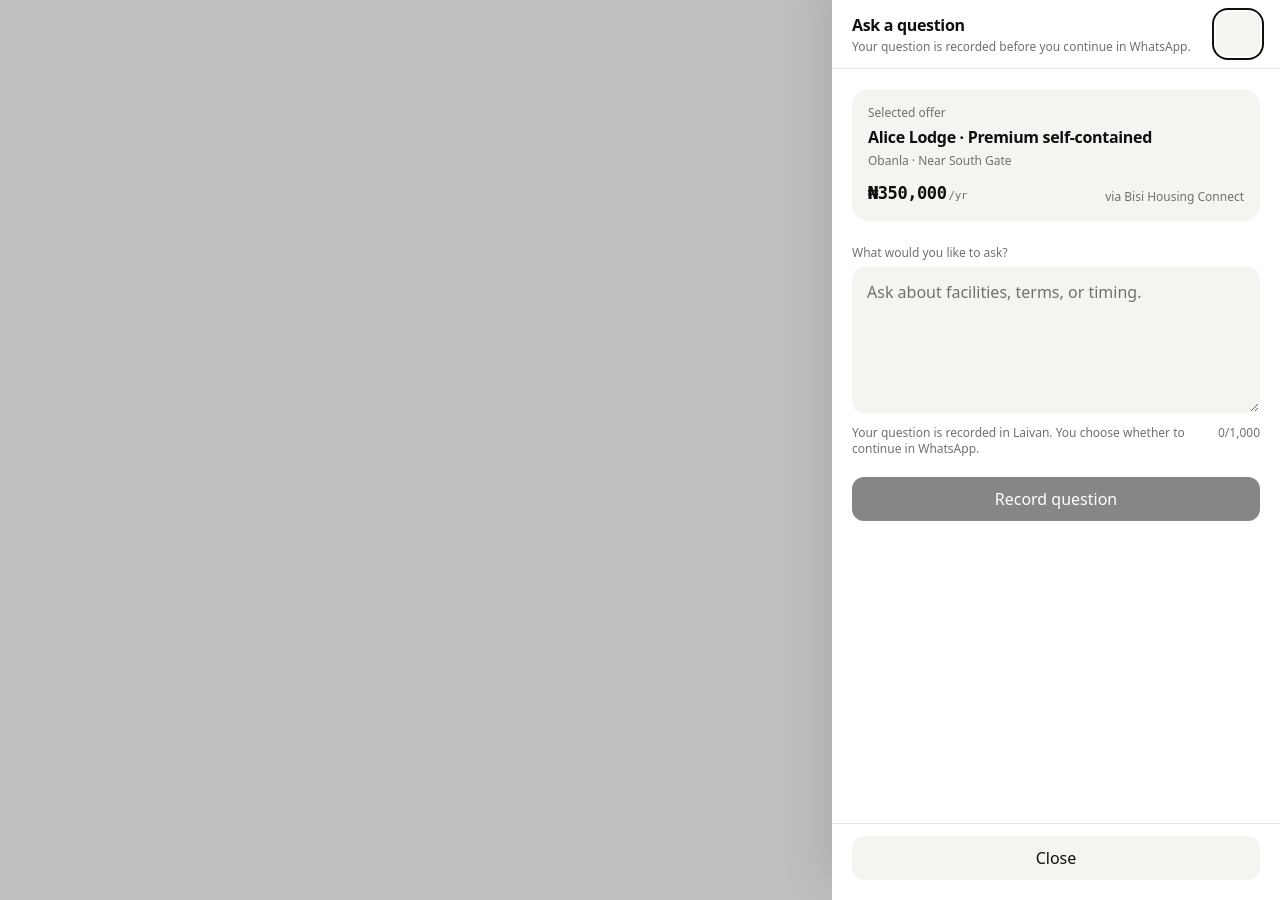
Test case: InquirySheet › disables submission while pending
This screenshot has width=1280, height=900.
In the text box labelled "What would you like to ask?": (1056, 340) [852,267,1260,413], type "When can I inspect it?"
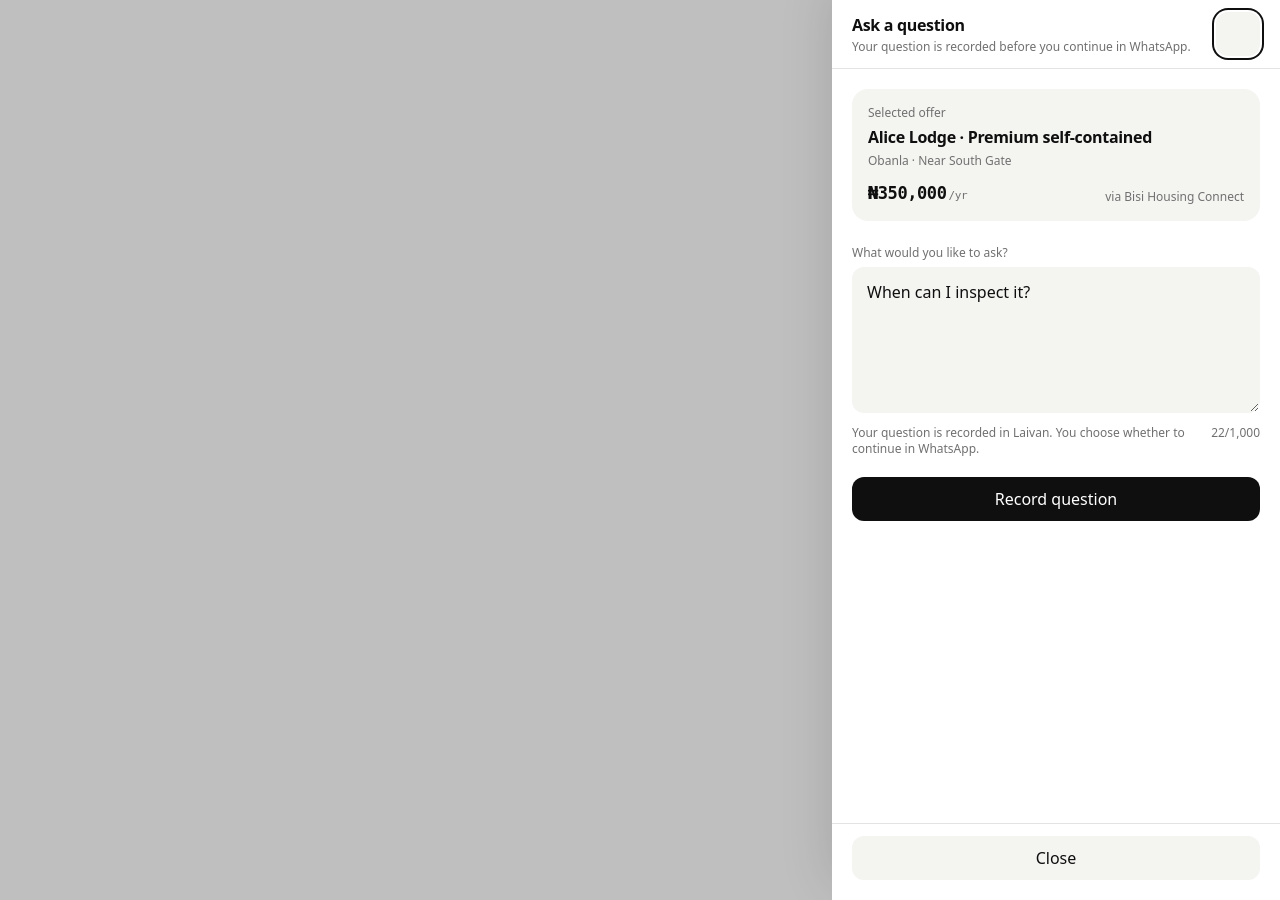
Check: the button "Record question" is enabled
Click the button "Record question": (1056, 499) [852,477,1260,521]
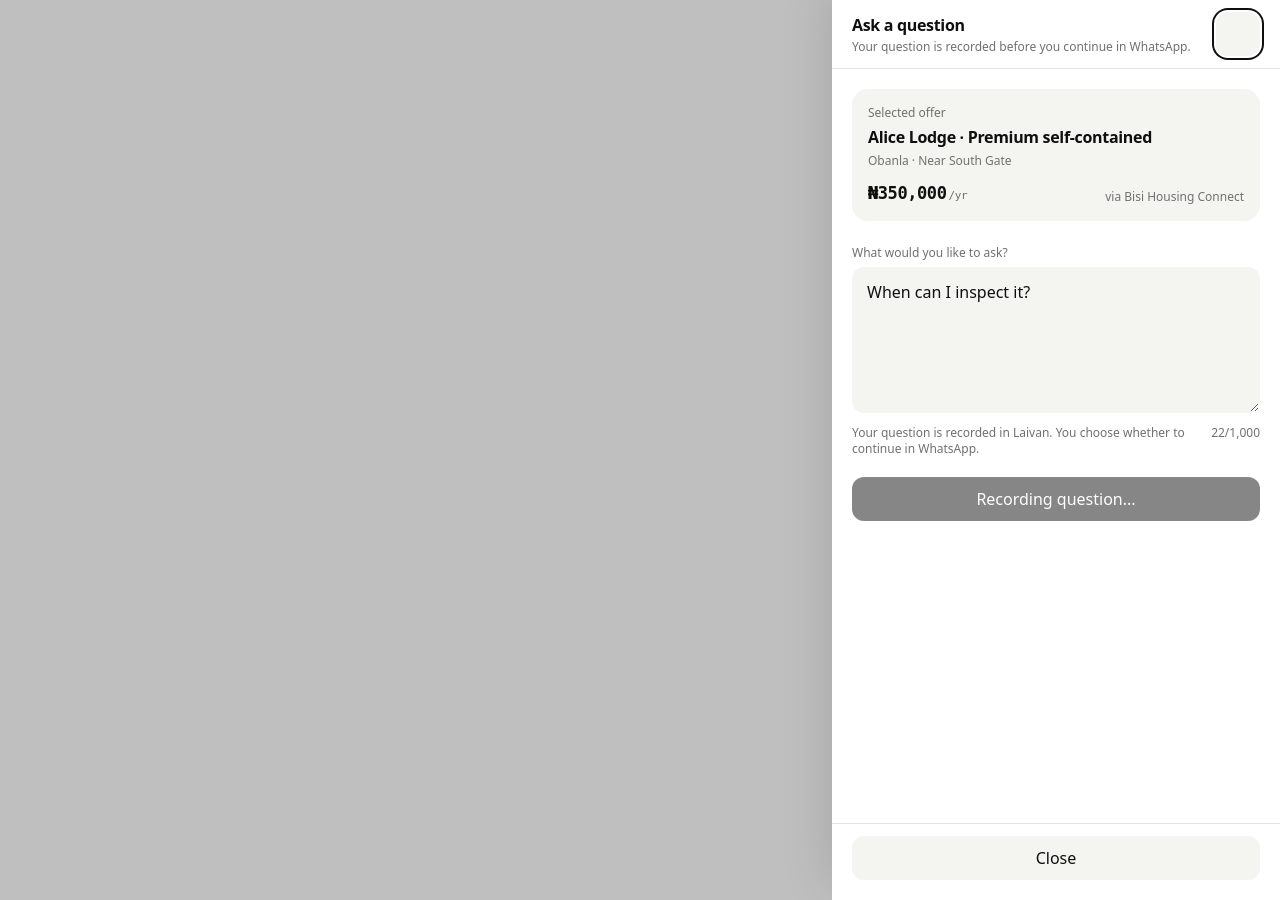
Check: the button "Recording question..." is disabled, box [852,477,1260,521]
